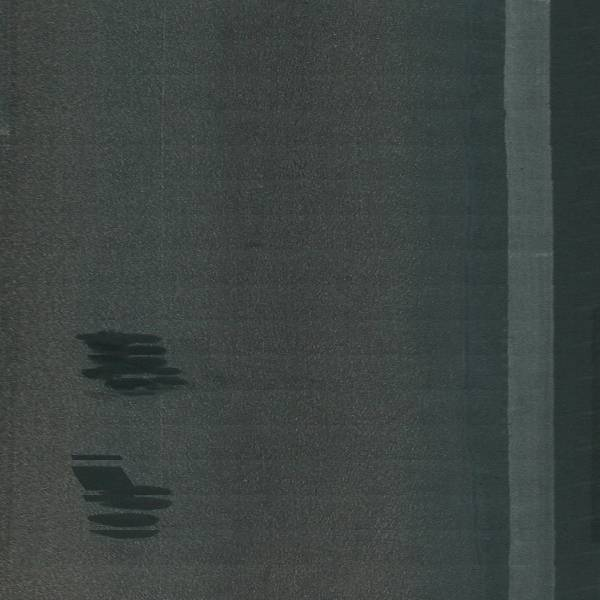road_damage: (62, 444, 178, 550)
